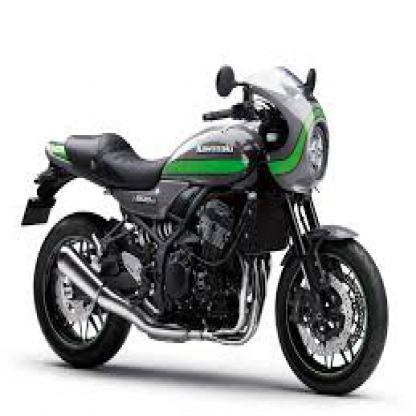Motorcycle: (16, 50, 392, 398)
